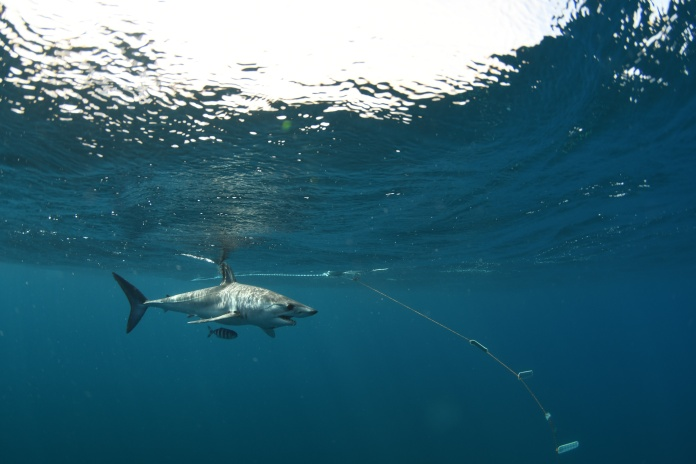Mako: (99, 251, 327, 362)
